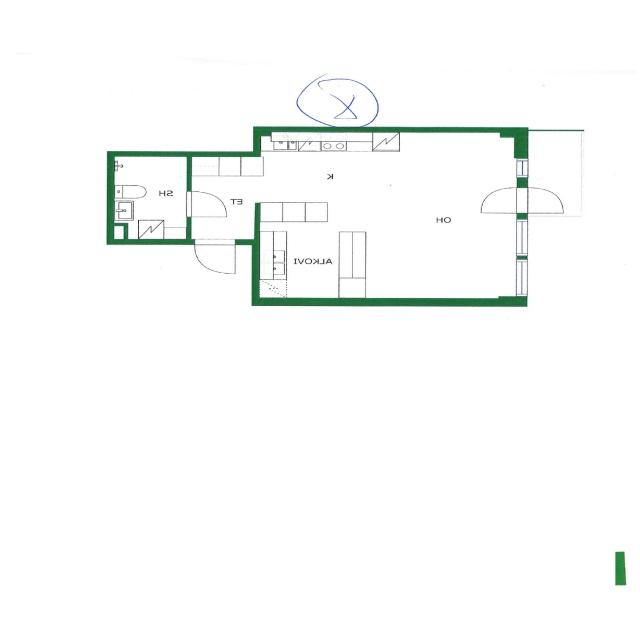door: (196, 239, 236, 273), (478, 187, 528, 213), (515, 187, 564, 213), (187, 192, 228, 217)
